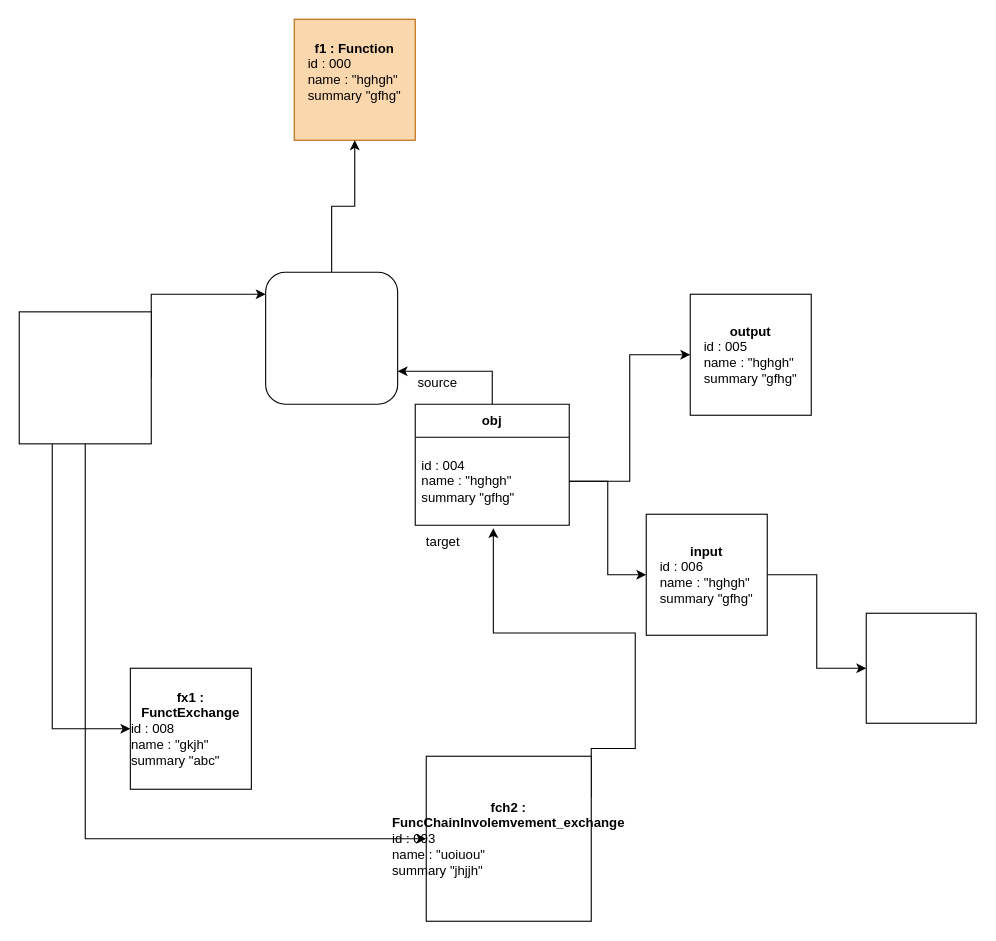
Image size: 996x941. Some labels were removed from this diagram. Each missing label, with the centre of its shape:
f2 : Function id : 007 name : "hghgh" summary "gfhg": [920,667]
fc1 : FuncChain id : 001 name : "hghgh" summary "gfhg": [84,377]
fch1 : FuncChainInvolemvement_function id : 002 name : "gkjh" summary "abc": [331,337]
